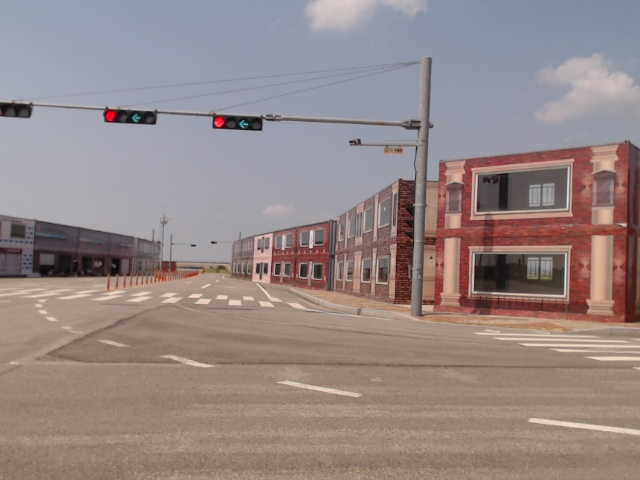left_green_4: (213, 115, 262, 131), (107, 109, 157, 124)
